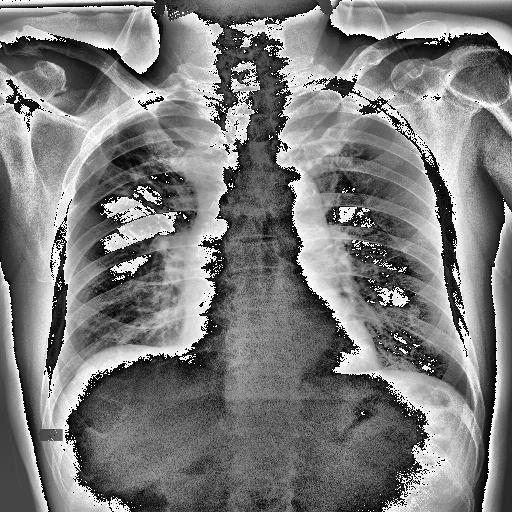0- Aortic enlargement: (248, 166, 334, 252), (266, 166, 328, 234)
13- Pulmonary fibrosis: (68, 122, 194, 236), (72, 119, 186, 230), (79, 135, 174, 220)
8- Nodule-Mass: (77, 318, 88, 328)
